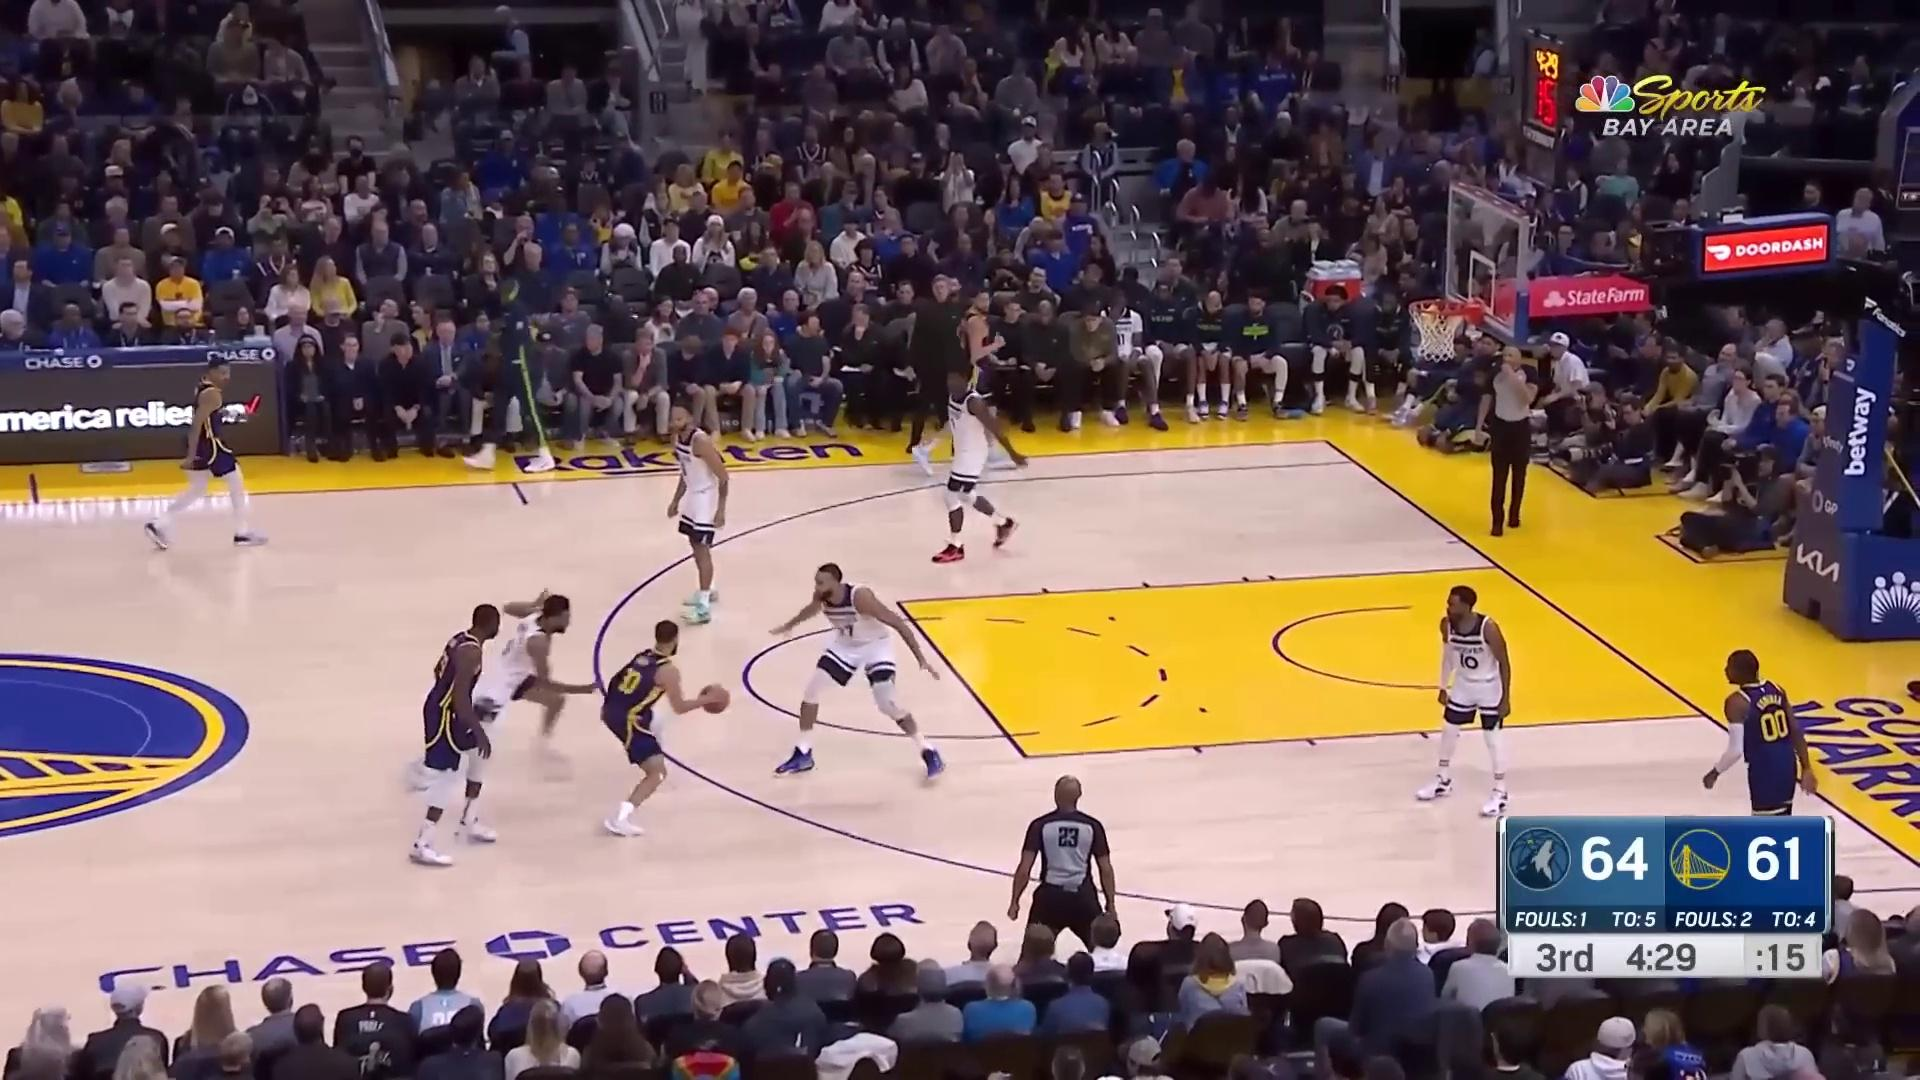Ball: (698, 679, 729, 718)
Player: (401, 589, 623, 783), (763, 561, 951, 788), (589, 614, 738, 844), (403, 589, 518, 873), (136, 351, 286, 558), (1709, 636, 1819, 871), (906, 294, 1039, 474), (1429, 583, 1509, 824), (939, 363, 1016, 573), (659, 396, 724, 631)
Rim: (1418, 176, 1528, 374)
